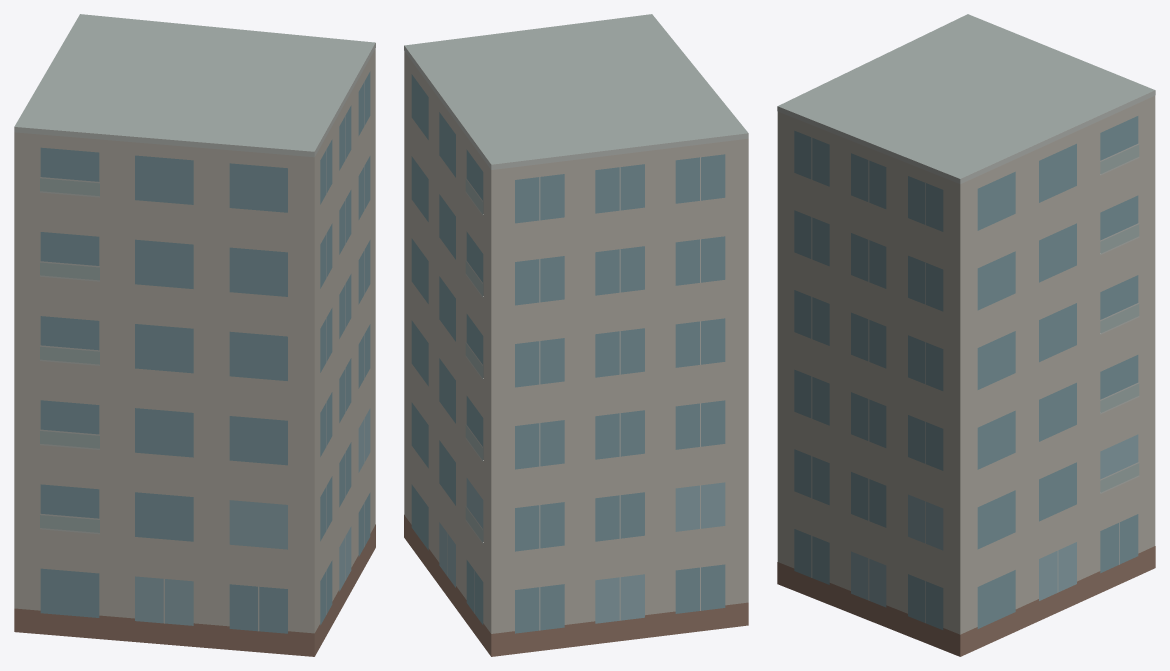
The model's file is survey-upis-32999995.glb.
3 renders of one model, left to right at view 1: azimuth 30°, elevation 25°; view 2: azimuth 150°, elevation 25°; view 3: azimuth 270°, elevation 25°, orthographic. The views are drawn at different scales.
Parts seen in each view (by area): view 1: survey-upis-32999995.tmp; view 2: survey-upis-32999995.tmp; view 3: survey-upis-32999995.tmp.
Part boxes in pixels (left/top/right/bottom): survey-upis-32999995.tmp: left=14, top=14, right=375, bottom=656; survey-upis-32999995.tmp: left=404, top=14, right=748, bottom=656; survey-upis-32999995.tmp: left=777, top=14, right=1155, bottom=656.
Bounding box in the file's own units: 16.53 × 22.3 × 15.99.
